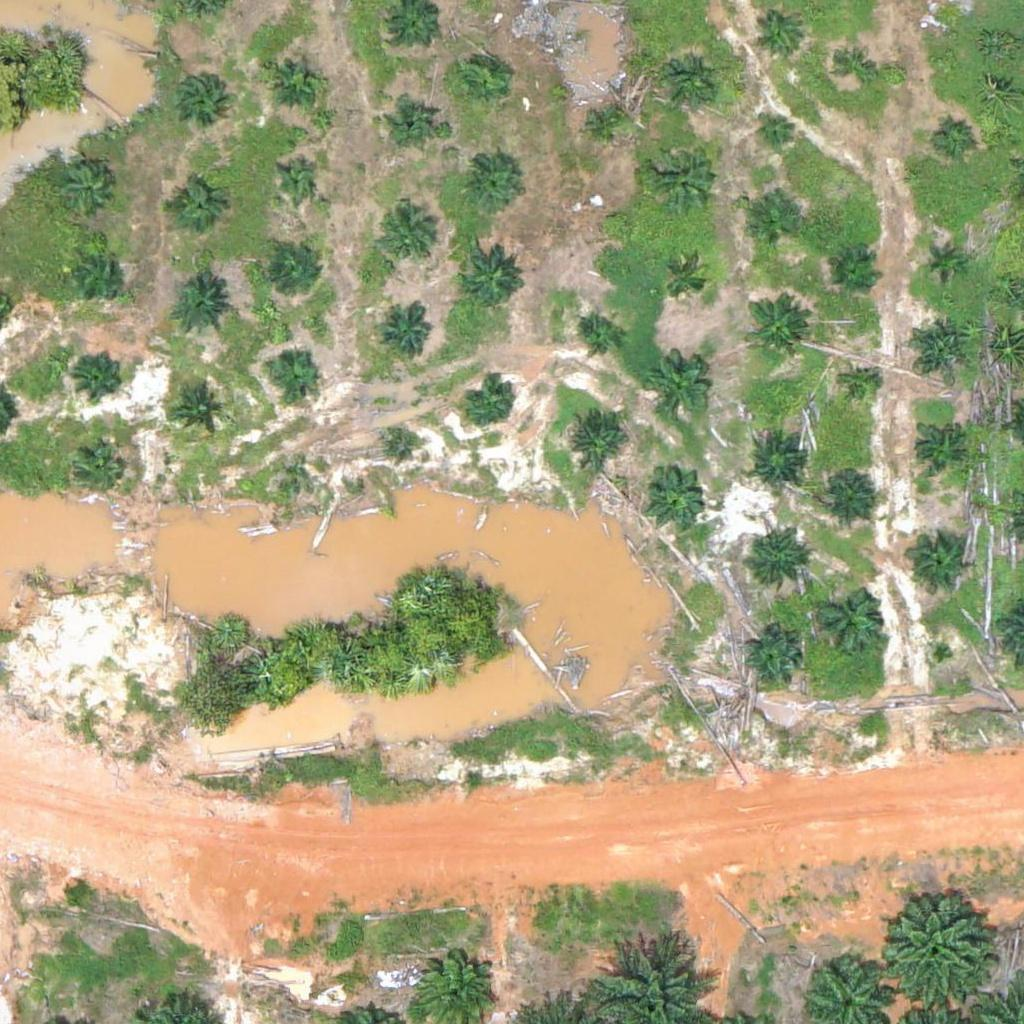Kelapa_Sawit: (875, 891, 988, 1005), (647, 134, 722, 210), (808, 583, 883, 659), (907, 313, 970, 376), (644, 354, 707, 417), (169, 277, 232, 340), (741, 531, 804, 594), (640, 463, 703, 526), (908, 532, 971, 595), (740, 628, 803, 691), (743, 295, 805, 358), (460, 243, 522, 306), (378, 206, 440, 269), (658, 51, 720, 114), (457, 153, 519, 216), (264, 48, 326, 111), (563, 408, 625, 471), (748, 433, 810, 495), (815, 461, 877, 523), (267, 344, 317, 395), (271, 245, 321, 296), (169, 182, 219, 233), (63, 167, 113, 218), (74, 250, 124, 301), (74, 348, 124, 399), (174, 387, 224, 438), (382, 310, 432, 360), (463, 377, 513, 427), (389, 94, 439, 144), (742, 201, 792, 251), (455, 54, 505, 104), (174, 72, 224, 122), (912, 423, 962, 473), (828, 248, 878, 298), (659, 257, 709, 307), (574, 314, 624, 364), (582, 97, 632, 147), (76, 449, 126, 499), (754, 10, 804, 60), (844, 369, 882, 407), (757, 112, 795, 150), (932, 6, 970, 44), (838, 48, 876, 86), (923, 244, 960, 282), (937, 120, 975, 157), (277, 161, 314, 199), (388, 430, 413, 455), (598, 207, 623, 232), (293, 464, 318, 489)
